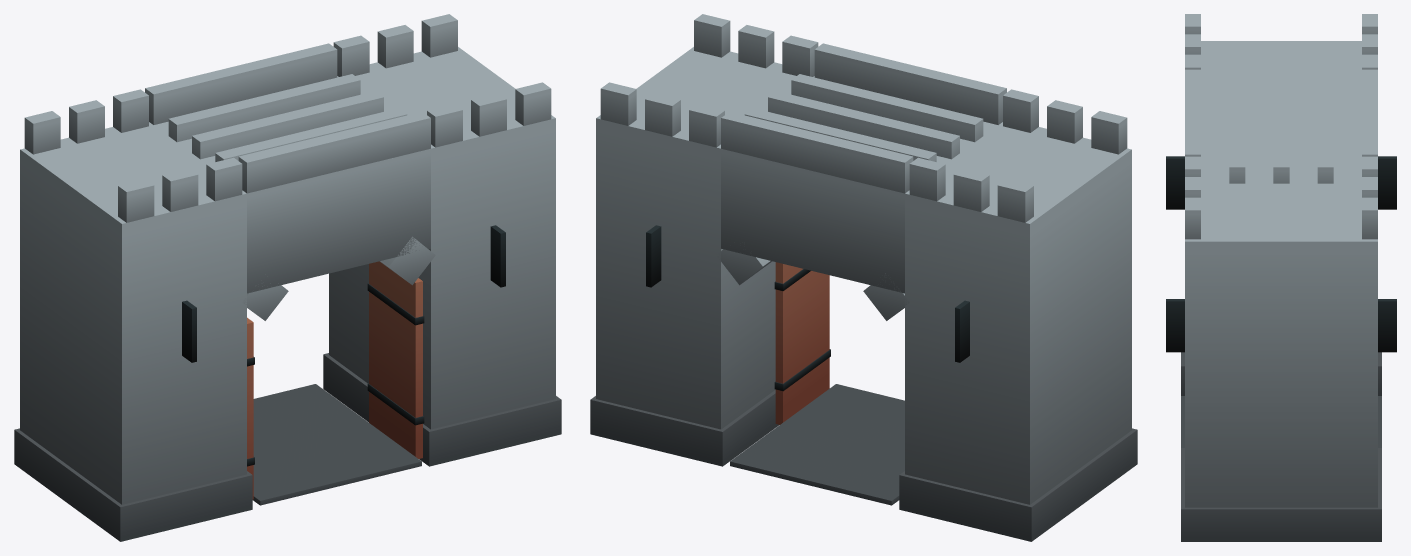
File: city_gate.glb
3 views of the same model, side by side, from view 1: azimuth 30°, elevation 25°; view 2: azimuth 150°, elevation 25°; view 3: azimuth 270°, elevation 25° (orthographic). The views are drawn at different scales.
Parts seen in each view (by area): view 1: city_gate; view 2: city_gate; view 3: city_gate.
Boxes of the visible parts, bbox=[...] form: city_gate: bbox=[14, 14, 561, 541]; city_gate: bbox=[590, 14, 1137, 541]; city_gate: bbox=[1166, 14, 1396, 541].
Bounding box in the file's own units: 12 × 9 × 5.74.
Materials: 1 (1 with a texture image).
